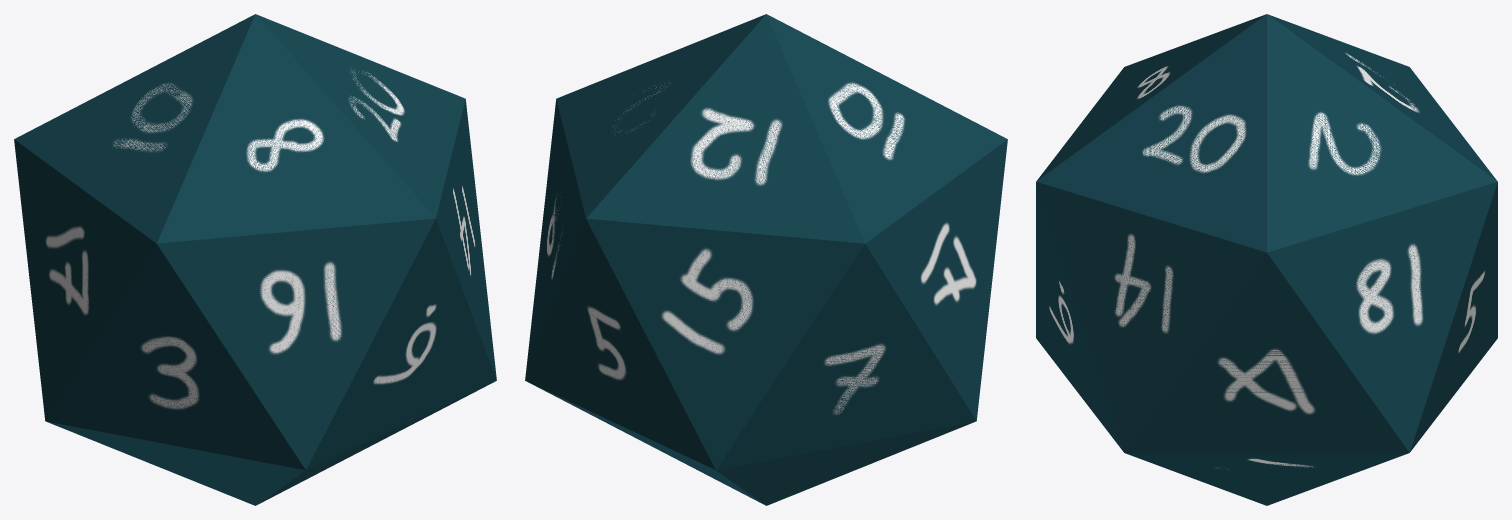
3 views of the same model, side by side, from view 1: azimuth 30°, elevation 25°; view 2: azimuth 150°, elevation 25°; view 3: azimuth 270°, elevation 25° (orthographic).
Visible parts, largest first — view 1: d20, d20_imposter; view 2: d20, d20_imposter; view 3: d20, d20_imposter.
Boxes of the visible parts, x1,y1,x2,y2 form: d20: (17,23,494,464); d20_imposter: (14,14,496,505); d20: (527,21,1004,501); d20_imposter: (525,14,1007,505); d20: (1038,19,1495,469); d20_imposter: (1036,14,1497,505).
Size of the model in its own units: 0.382 by 0.4271 by 0.3633.
Materials: 2 (2 with a texture image).
